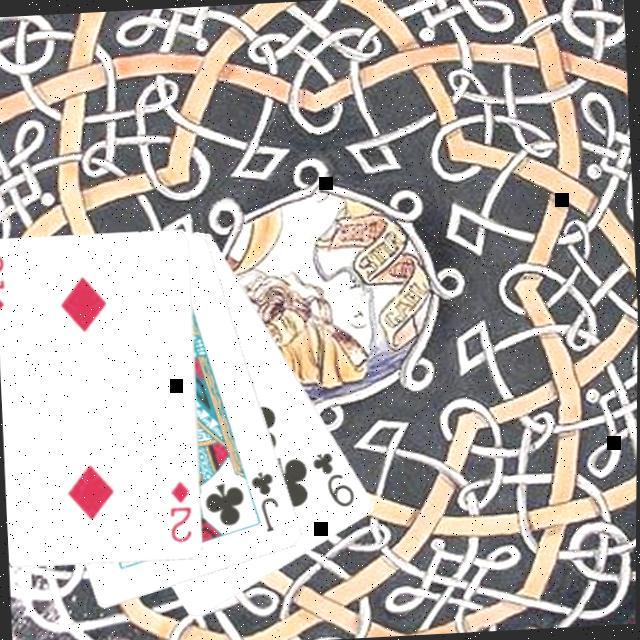2D: (167, 479, 199, 548), (0, 252, 12, 320)
9C: (310, 449, 361, 513)
JC: (248, 468, 285, 538)
